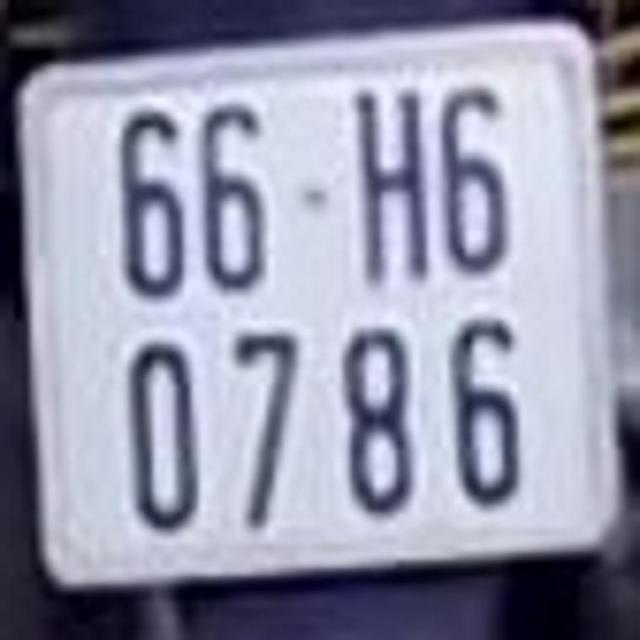0: (106, 320, 217, 528)
6: (442, 306, 538, 513), (434, 70, 524, 282), (108, 89, 192, 298), (190, 92, 276, 295)
7: (225, 312, 315, 532)
8: (338, 308, 428, 516)
H: (348, 82, 432, 285)
